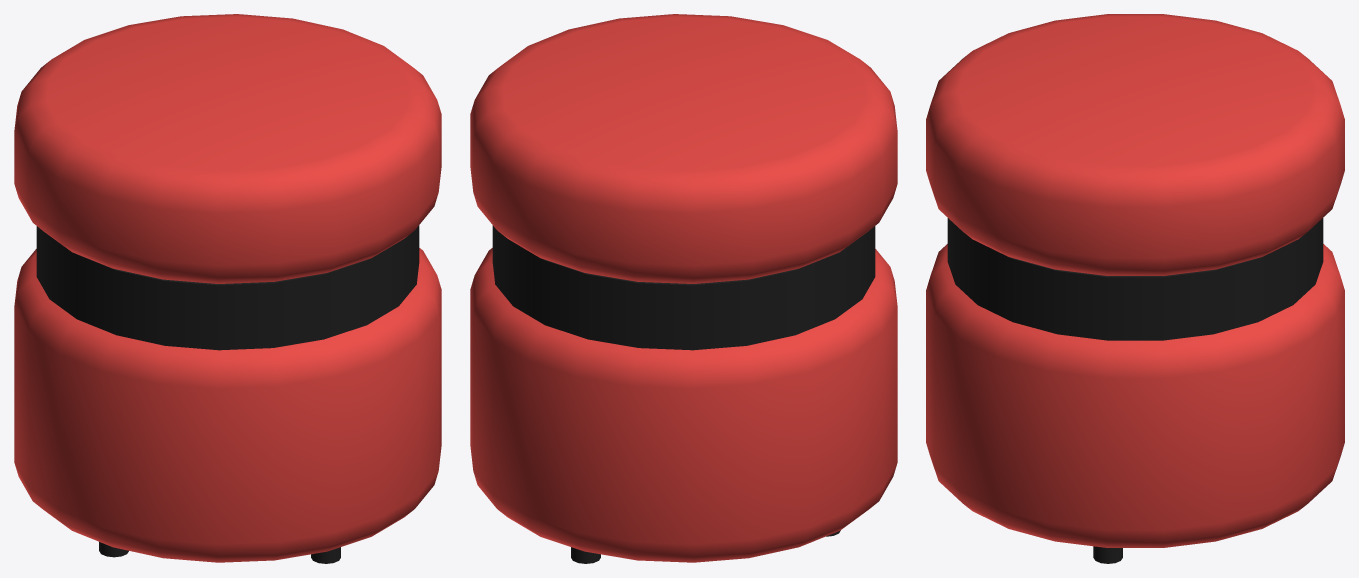
Rendered from Bar Stool.fbx.
3 renders of one model, left to right at view 1: azimuth 30°, elevation 25°; view 2: azimuth 150°, elevation 25°; view 3: azimuth 270°, elevation 25°, orthographic. The views are drawn at different scales.
Visible parts, largest first — view 1: Cylinder.002; view 2: Cylinder.002; view 3: Cylinder.002.
Part boxes in pixels (left/top/right/bottom): Cylinder.002: left=14, top=14, right=441, bottom=563; Cylinder.002: left=470, top=14, right=897, bottom=563; Cylinder.002: left=926, top=14, right=1344, bottom=563.
Bounding box in the file's own units: 97.12 × 105 × 98.11.
